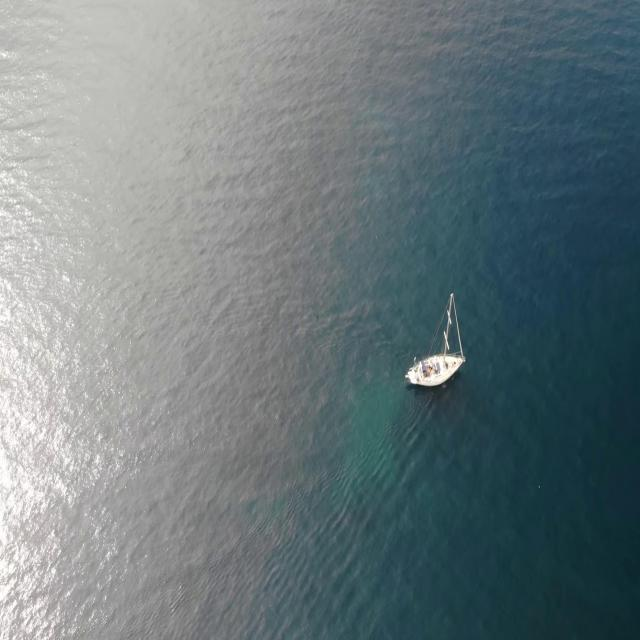sailboat: (404, 290, 466, 394)
